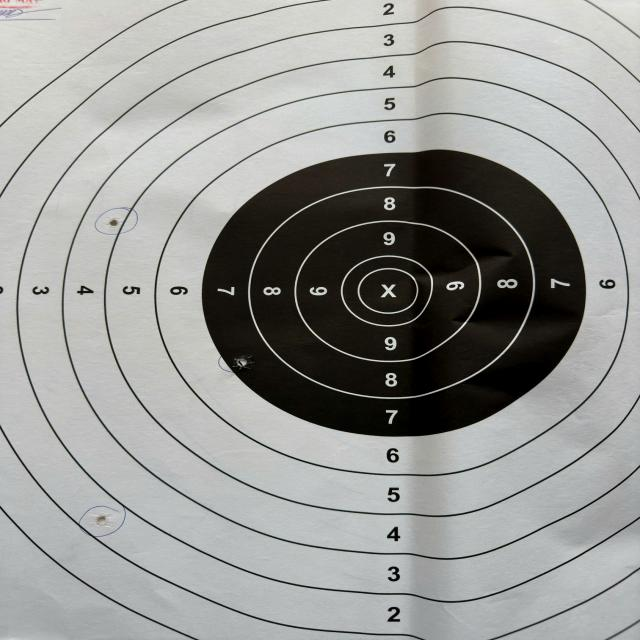bullet: (236, 356, 252, 372), (97, 516, 108, 528), (109, 220, 116, 228)
